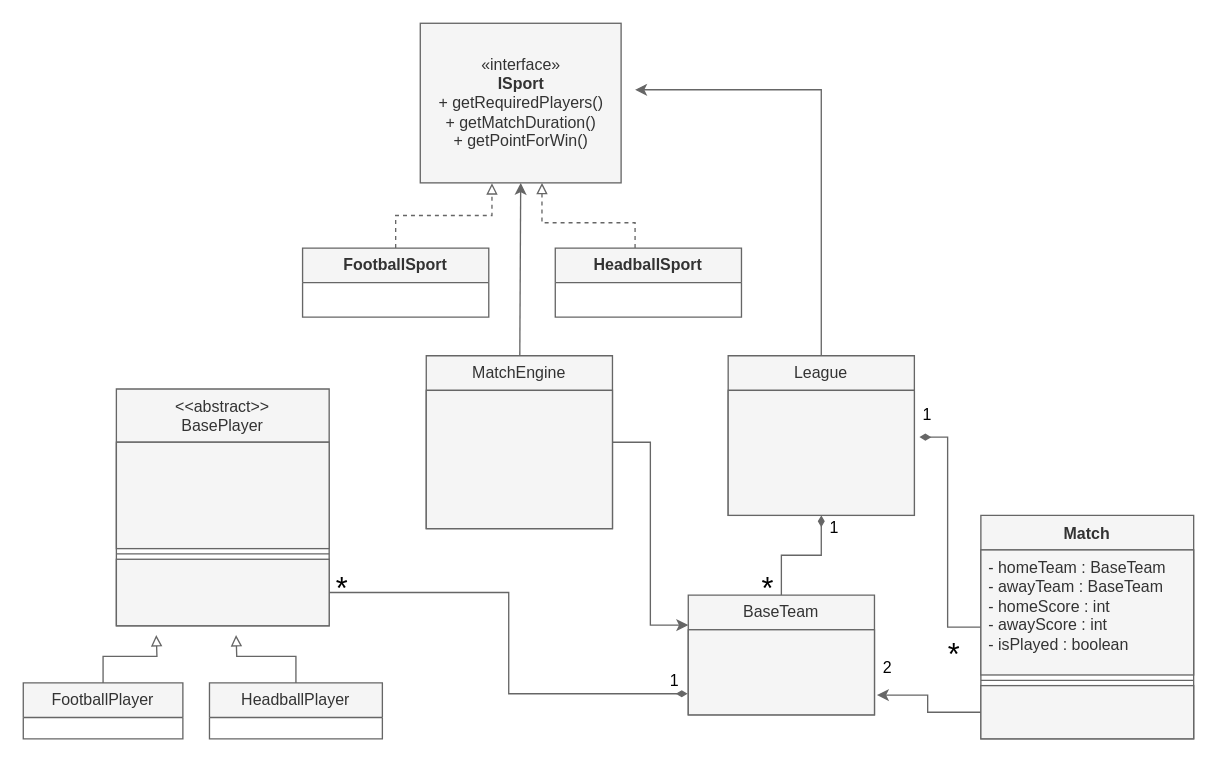
Image size: 1217x766. Some labels were removed from this diagram. Each missing label, with the centre of its shape:
"+ playMatch() : void" belongs at (x=1087, y=711).
"+ simulateMatch(team1 : BaseTeam, team2 : BaseTeam, rules : ISport)" belongs at (x=518, y=459).
"+ train() + recover()" belongs at (x=222, y=592).
"- name : String - age : int - fitness : double - isInjured : boolean" belongs at (x=222, y=495).
"- teamName - players - points" belongs at (x=780, y=671).
"- teams - fixtures - currentWeek + generateFixture() + updateStandings()" belongs at (x=820, y=452).
